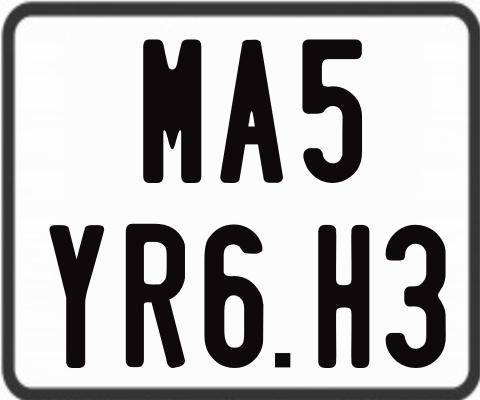3: (386, 225, 446, 370)
5: (299, 37, 362, 182)
6: (204, 223, 267, 366)
A: (220, 38, 288, 181)
H: (317, 225, 370, 372)
M: (140, 38, 199, 188)
R: (126, 221, 190, 369)
Y: (48, 224, 103, 368)
